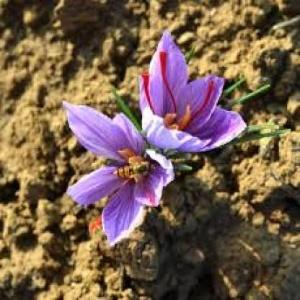Saffron: (62, 99, 175, 241), (140, 31, 248, 151)
